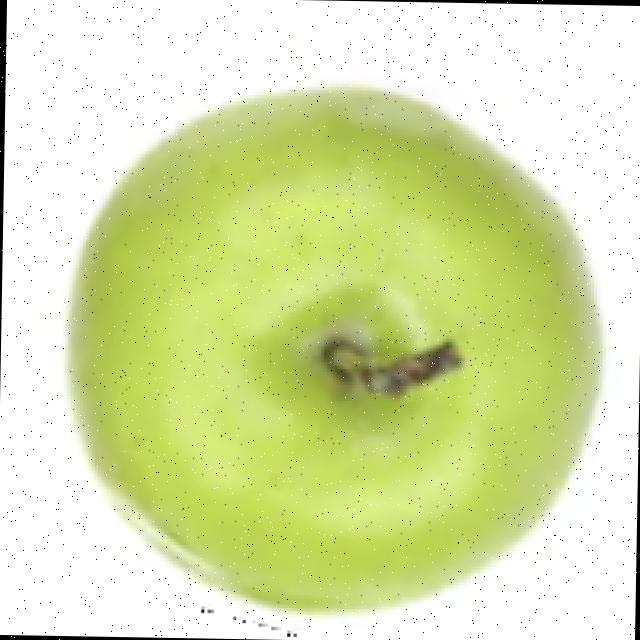apple: (59, 70, 611, 636)
